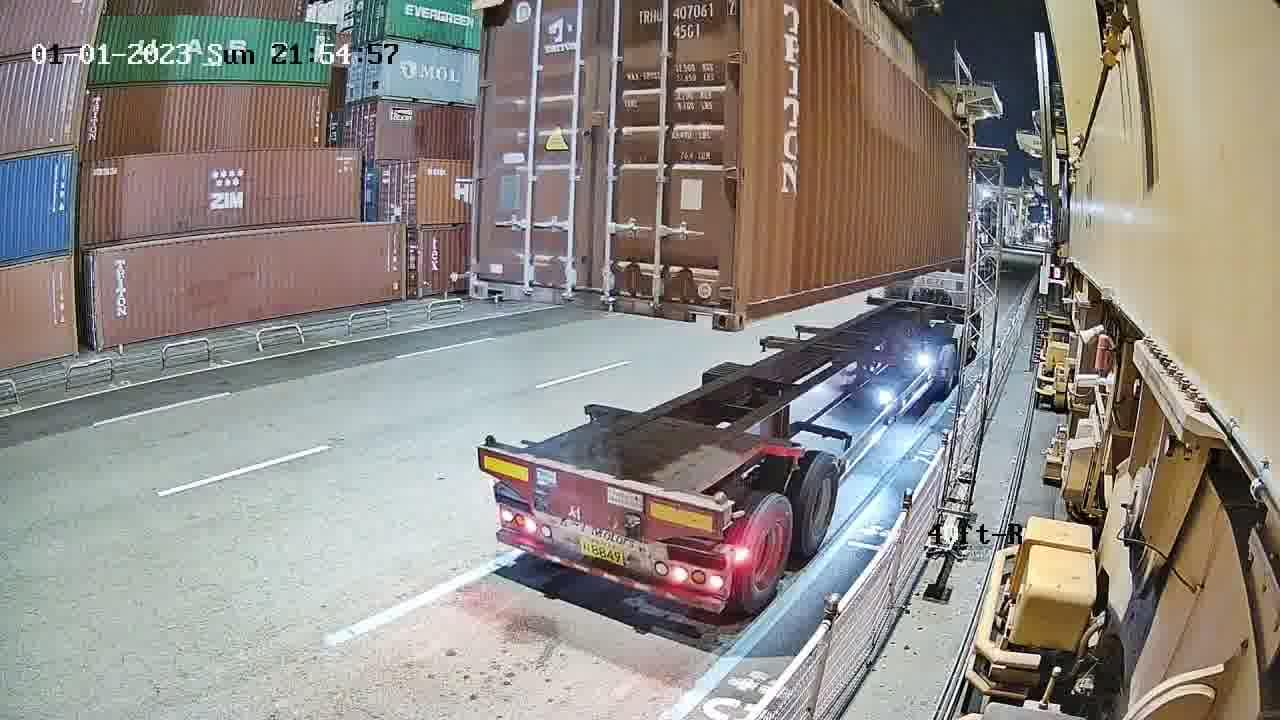Chassis: (479, 450, 721, 543)
Cone: (709, 492, 732, 530), (476, 430, 497, 468)
Hole_L: (733, 270, 772, 332), (469, 252, 511, 301)
Hole_R: (682, 280, 735, 332)
Tire: (740, 494, 792, 613), (799, 457, 841, 553)
